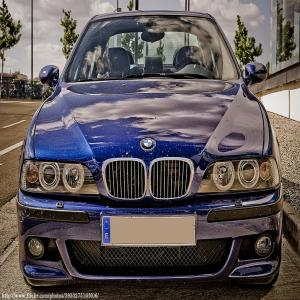Vehicle-registration-plate: (102, 216, 196, 245)
